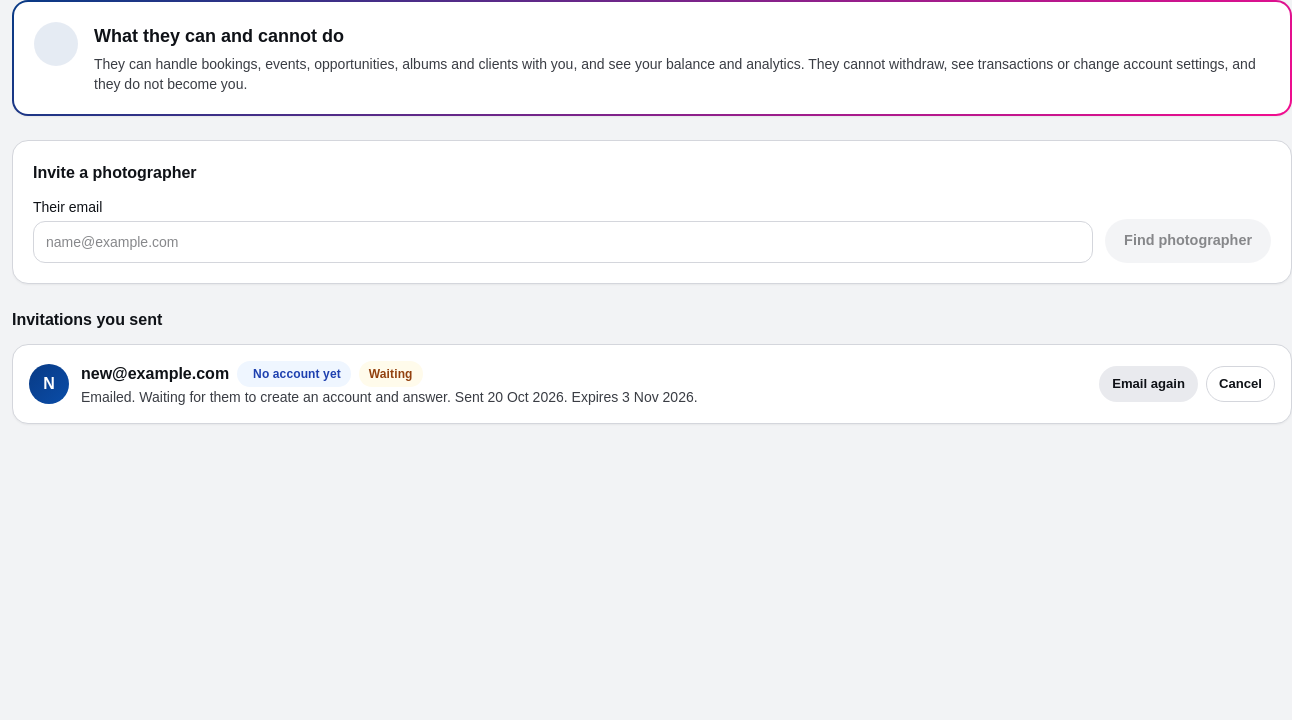
Test: inviting an address with no account yet › refuses to send again when the server says it was just emailed, and says why
Click the button "Email again" at (1149, 384), box [1099, 366, 1198, 402]
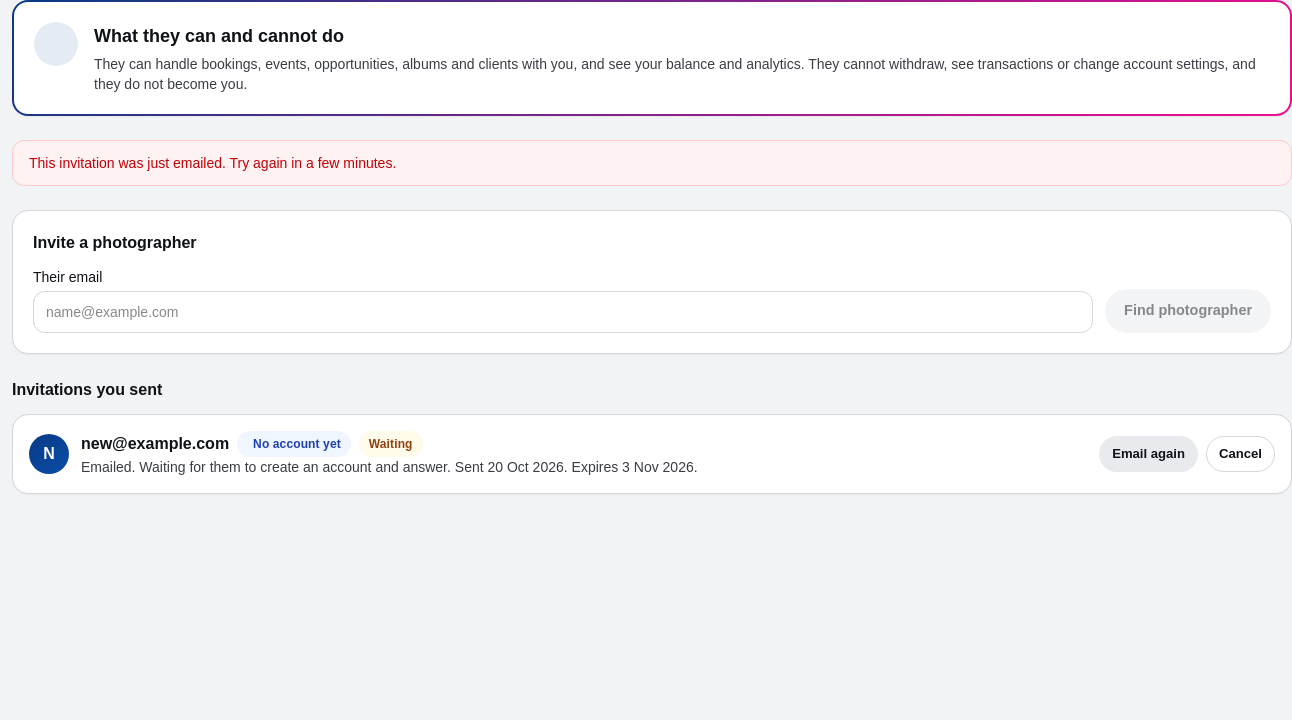
Now the text "just emailed" is shown, box [29, 155, 396, 171]
